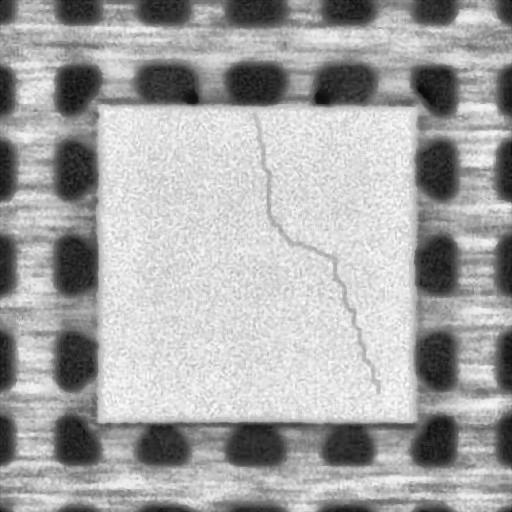DIE_CRACK: (252, 112, 382, 393)
